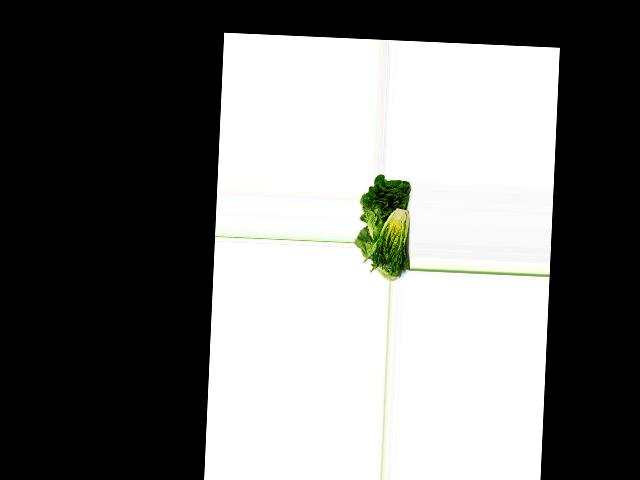lettuce: (358, 175, 414, 239)
